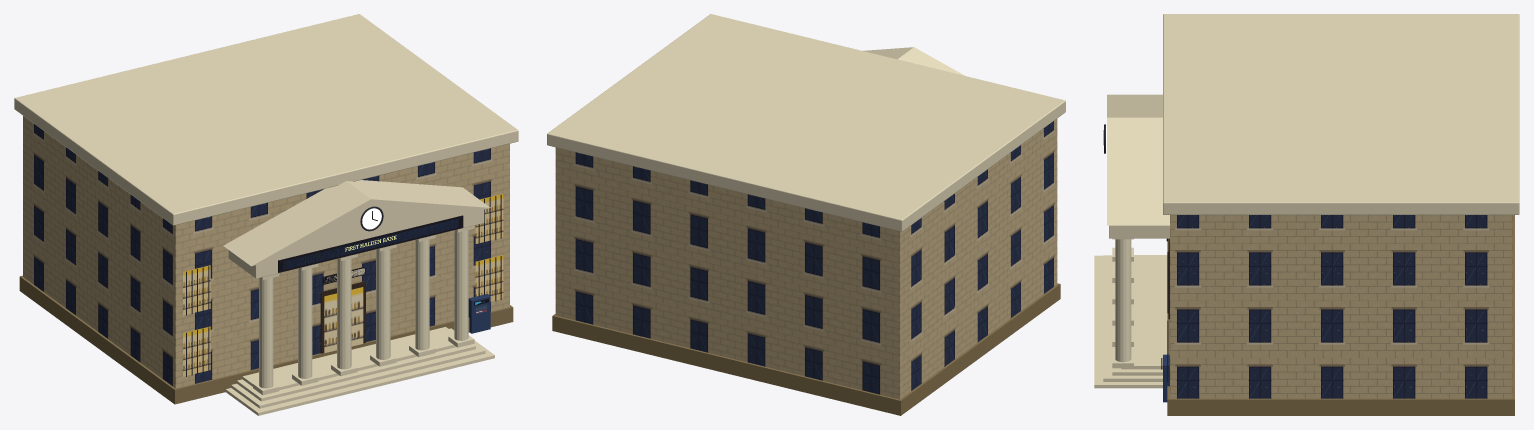
Rendered from stone_bank.glb.
3 renders of one model, left to right at view 1: azimuth 30°, elevation 25°; view 2: azimuth 150°, elevation 25°; view 3: azimuth 270°, elevation 25°, orthographic. The views are drawn at different scales.
Parts seen in each view (by area): view 1: stone_bank; view 2: stone_bank; view 3: stone_bank.
Boxes of the visible parts, <box> form: stone_bank: <box>14,14,518,415</box>; stone_bank: <box>547,14,1065,415</box>; stone_bank: <box>1094,14,1519,415</box>.
Bounding box in the file's own units: 24.8 × 13.2 × 23.6.
Materials: 18 (8 with a texture image).
